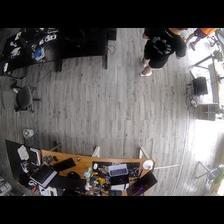normal: (140, 27, 187, 75)
